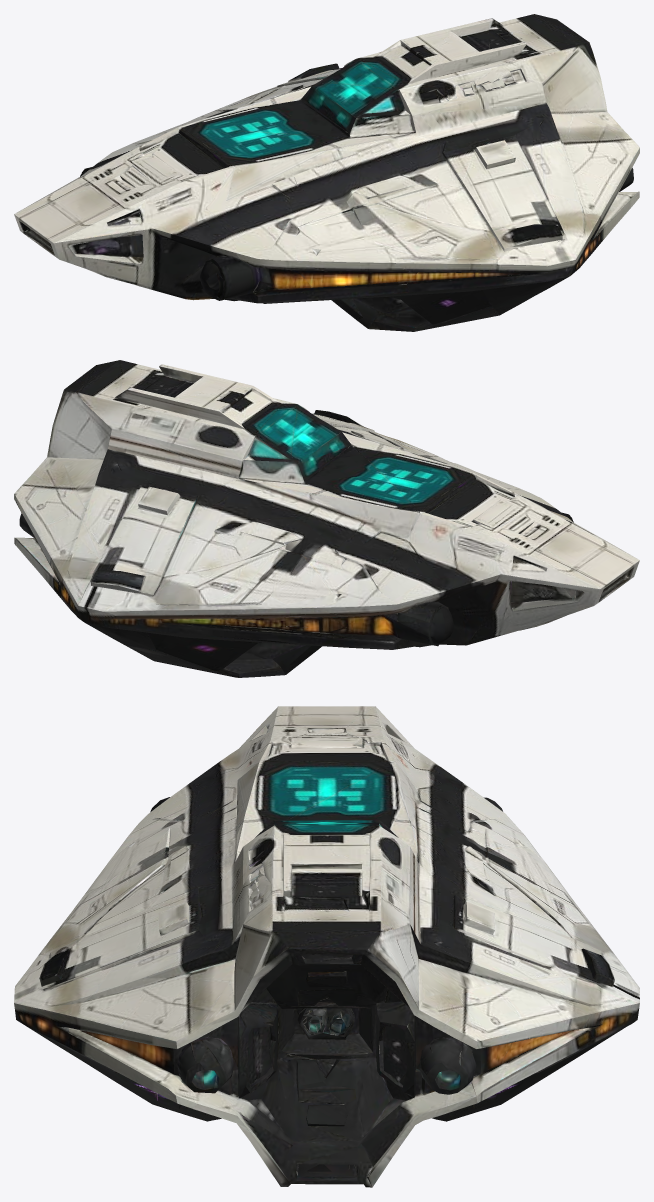
The model's file is vessel-hammer.glb.
The picture shows the model from 3 angles, top to bottom: view 1: azimuth 30°, elevation 25°; view 2: azimuth 150°, elevation 25°; view 3: azimuth 270°, elevation 25°; orthographic projection. The views are drawn at different scales.
Bounding box in the file's own units: 1.9 × 0.7284 × 1.53.
Materials: 1 (1 with a texture image).
